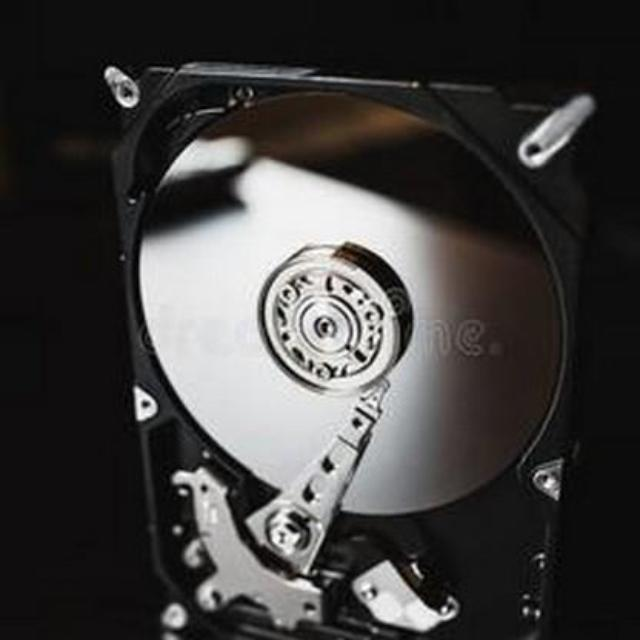DISK: (97, 35, 600, 640)
